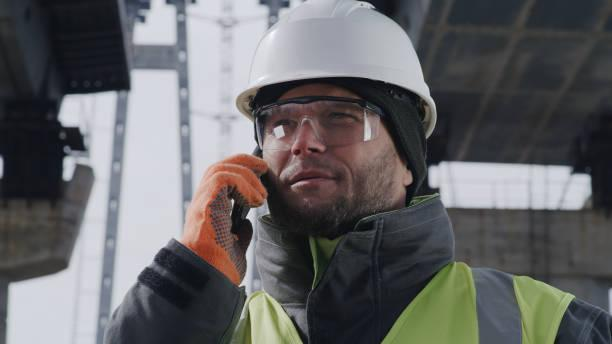goggle: (245, 97, 394, 162)
helmet: (232, 1, 451, 130)
vest: (164, 211, 612, 344)
